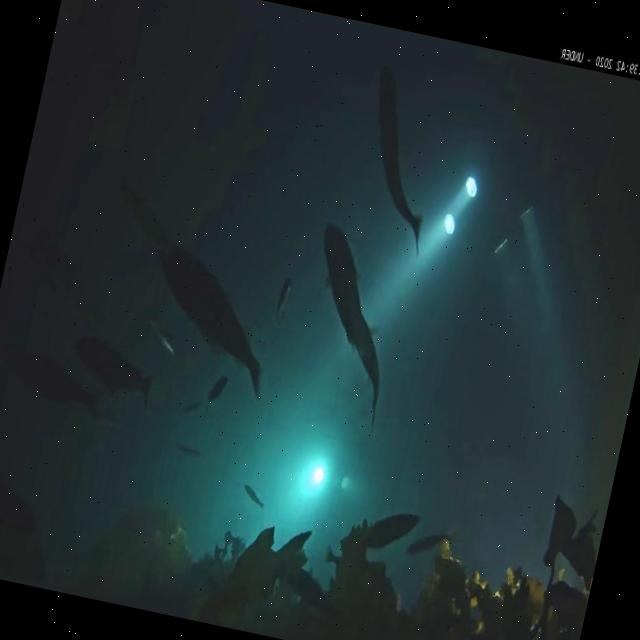fish: (285, 217, 415, 412), (135, 242, 287, 401), (346, 50, 458, 249), (0, 341, 109, 418), (69, 339, 157, 389), (347, 500, 421, 559), (105, 182, 171, 240), (140, 318, 182, 360), (408, 523, 453, 561), (237, 480, 269, 514), (170, 396, 200, 426), (272, 276, 291, 321), (171, 438, 201, 462), (207, 372, 230, 402), (92, 410, 120, 432)
